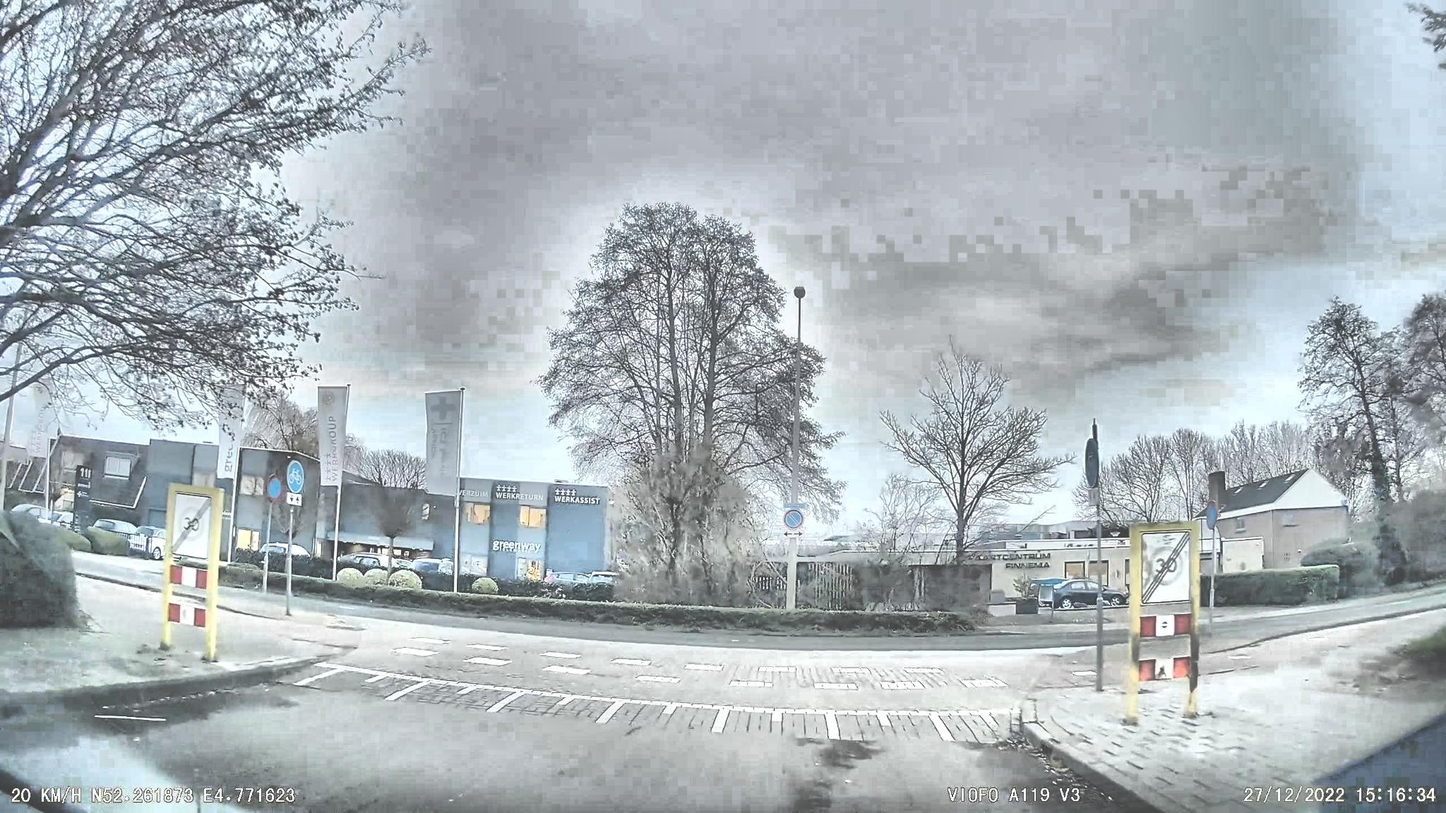Roads: (87, 613, 1112, 813)
